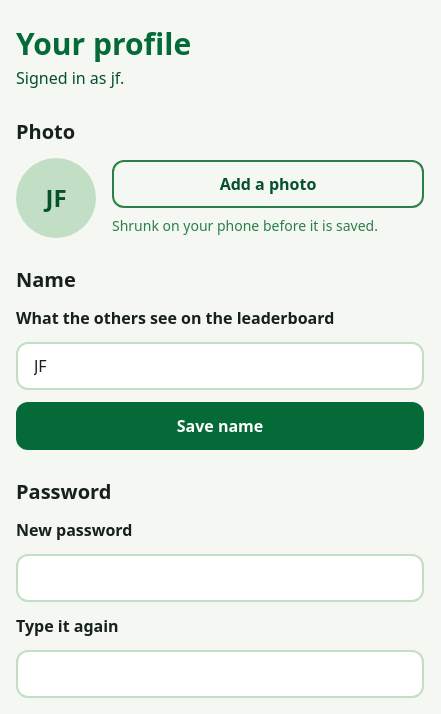
Test: ProfileScreen › changes the password when both fields agree
Type "longenough" into the password field labelled "New password" at (220, 578), box [16,554,424,602]
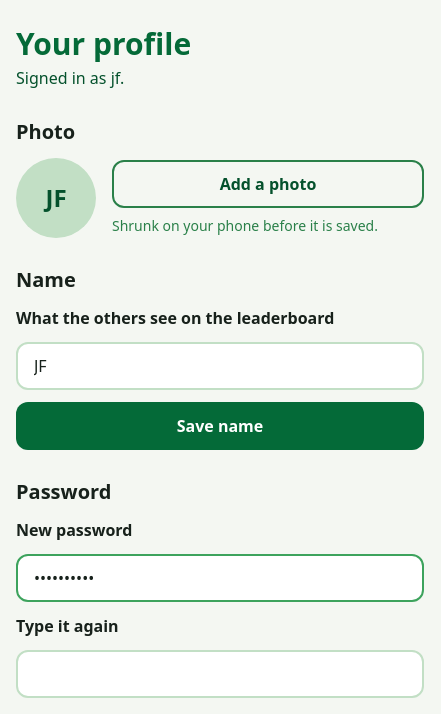
Type "longenough" into the password field labelled "Type it again" at (220, 674), box [16,650,424,698]
(page scrolled)
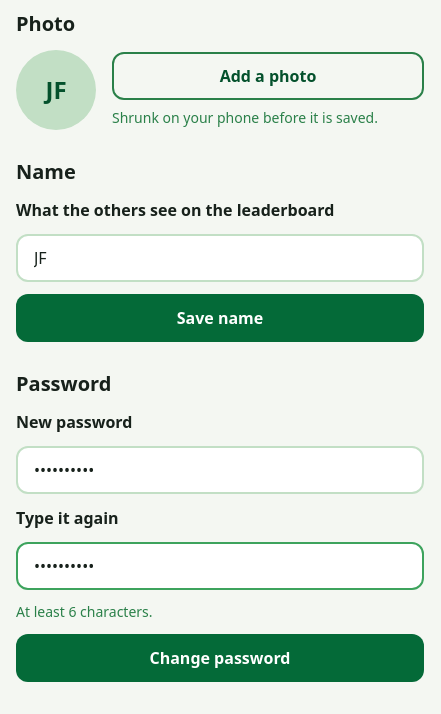
Click the button "Change password" at (220, 658), box [16,634,424,682]
(page scrolled)
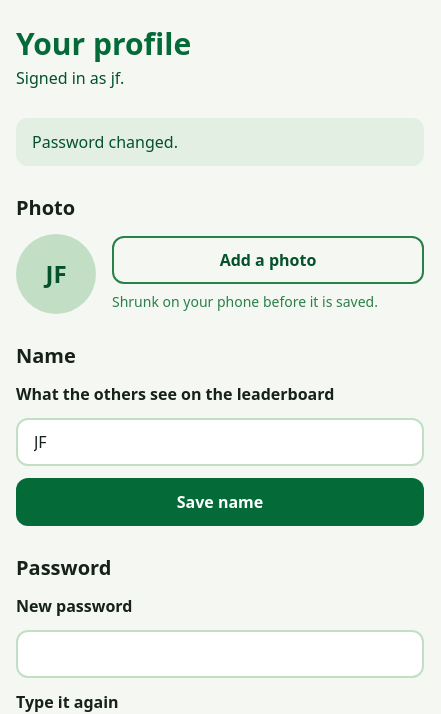
Check: the text "Password changed." is shown, box [16,118,424,166]
